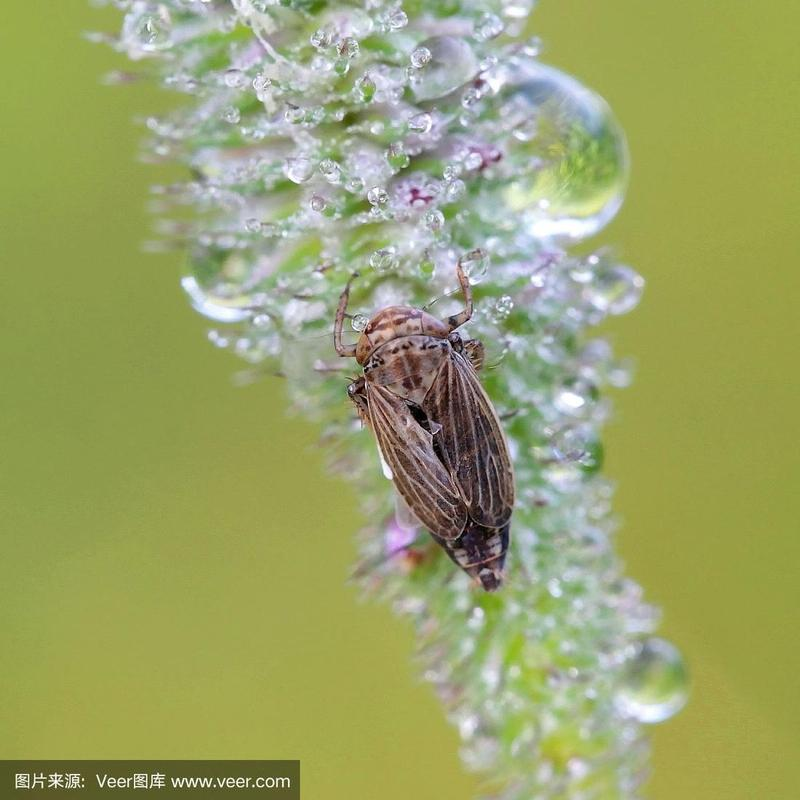Cicadellidae: (322, 272, 523, 594)
